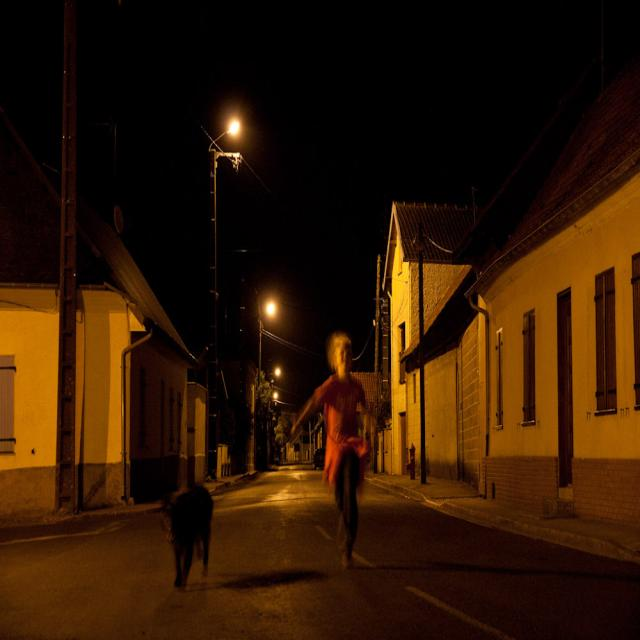People: (327, 303, 371, 539)
dog: (151, 443, 242, 597)
